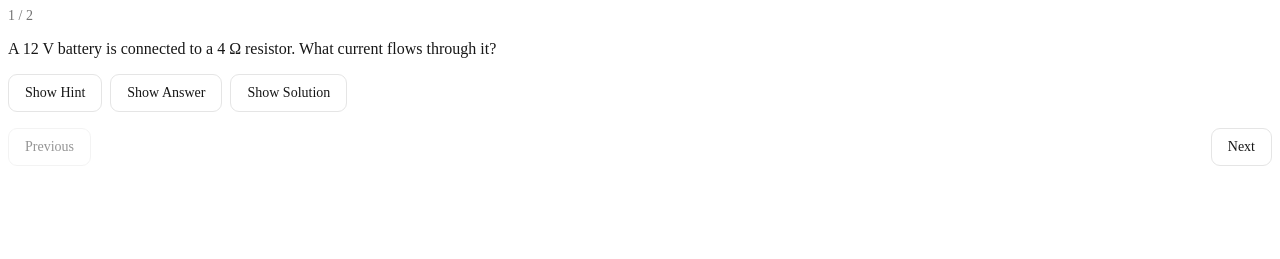
PracticeProblems › shows hint
The image size is (1280, 259).
Click the button "Show Hint": coordinates (55, 93) [8,74,102,112]
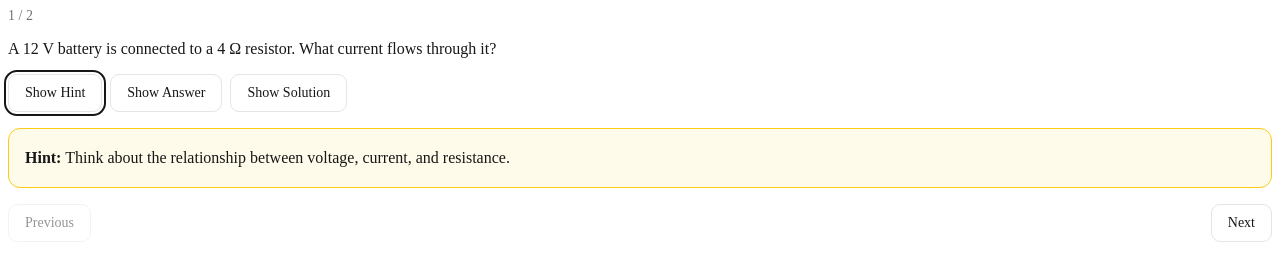
Expected: the text "Think about the relationship between voltage, current, and resistance." is shown, [65,149,510,166]
